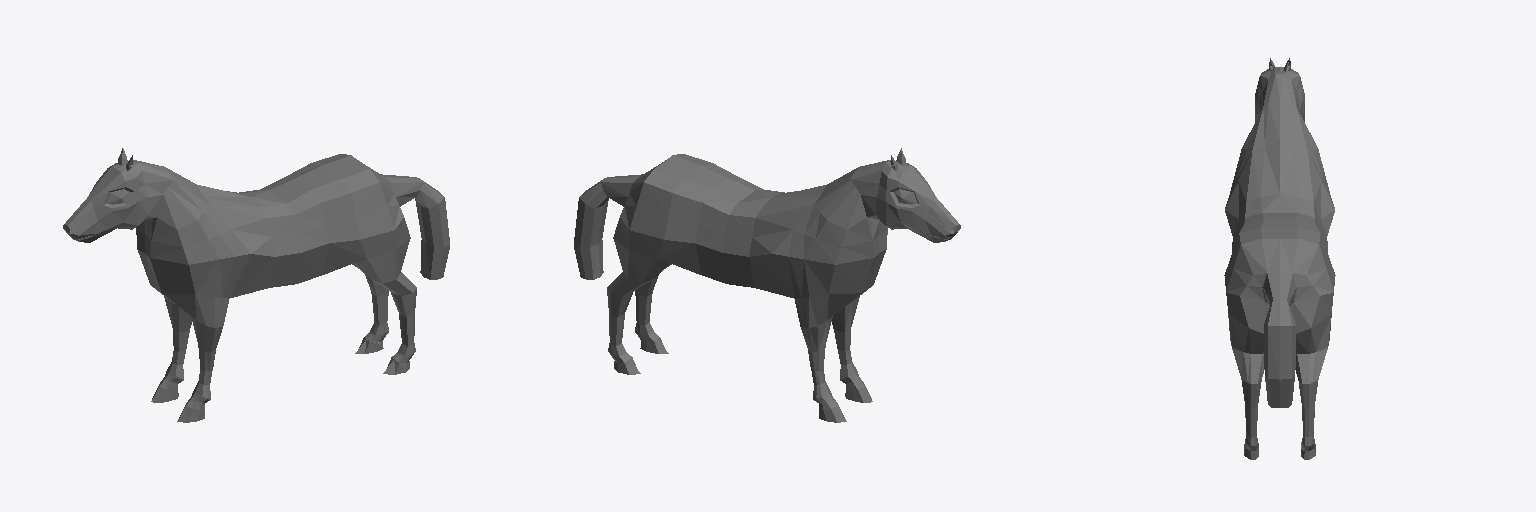
File: caballo3.obj
The picture shows the model from 3 angles: view 1: azimuth 30°, elevation 25°; view 2: azimuth 150°, elevation 25°; view 3: azimuth 270°, elevation 25°; orthographic projection.
Visible parts, largest first — view 1: Hourse_body; view 2: Hourse_body; view 3: Hourse_body.
Part boxes in pixels (bbox=[...]): Hourse_body: bbox=[63, 148, 449, 422]; Hourse_body: bbox=[574, 148, 960, 422]; Hourse_body: bbox=[1224, 58, 1335, 459].
Bounding box in the file's own units: 6.16 × 4.21 × 1.56.